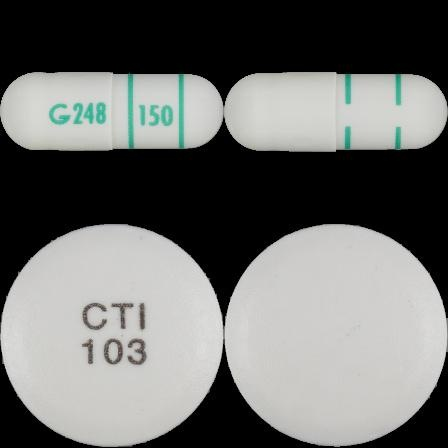61269-212: (0, 0, 224, 224)
